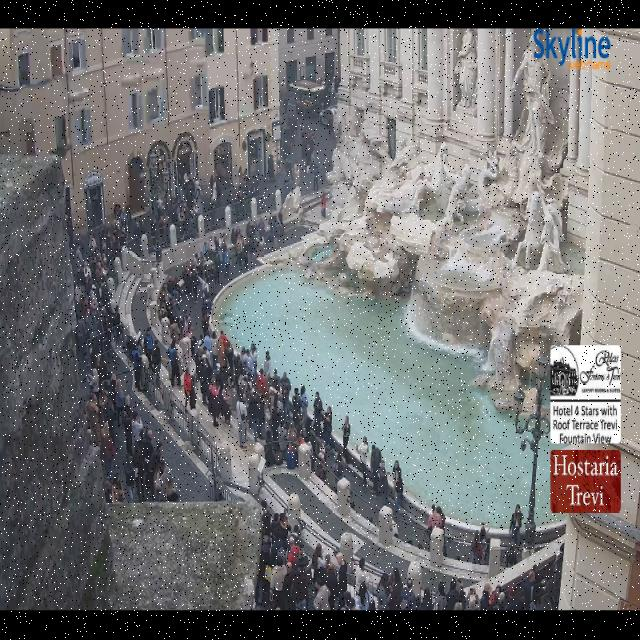person: (78, 286, 121, 384), (80, 286, 106, 384), (76, 263, 100, 367), (239, 374, 278, 438), (198, 356, 233, 426), (241, 370, 277, 433), (280, 413, 318, 469), (75, 271, 99, 351), (79, 254, 105, 320), (269, 513, 299, 566), (79, 276, 99, 352), (231, 352, 259, 404), (84, 250, 106, 315), (266, 178, 288, 242), (272, 511, 299, 561), (91, 232, 111, 298), (278, 117, 297, 184), (228, 348, 255, 395), (212, 356, 243, 396), (288, 388, 312, 439), (278, 418, 304, 465), (150, 443, 171, 501), (88, 346, 111, 398), (255, 533, 271, 605), (281, 514, 303, 565), (285, 390, 305, 443), (91, 229, 111, 281), (276, 117, 292, 182), (235, 348, 257, 395), (90, 293, 107, 352), (84, 235, 102, 290), (146, 441, 162, 501), (212, 364, 235, 405), (185, 176, 201, 234), (141, 431, 154, 501), (324, 563, 343, 610), (160, 286, 179, 332), (286, 516, 303, 567), (270, 514, 286, 568), (254, 214, 275, 254), (271, 558, 287, 610), (294, 538, 311, 585), (524, 569, 545, 607), (155, 459, 174, 501), (86, 394, 101, 447), (96, 231, 114, 275), (100, 422, 114, 478), (196, 355, 212, 404), (183, 254, 203, 293), (108, 203, 122, 256), (272, 513, 291, 552), (207, 246, 219, 303), (386, 568, 402, 610), (291, 568, 307, 610), (133, 443, 144, 502), (336, 553, 348, 607), (388, 568, 403, 610), (288, 416, 305, 451), (144, 441, 162, 473), (220, 330, 234, 371), (509, 505, 523, 546), (288, 525, 303, 563), (75, 268, 86, 319), (104, 392, 115, 442), (357, 436, 368, 486), (271, 390, 282, 440), (159, 277, 173, 316), (168, 341, 180, 386), (124, 453, 135, 502), (236, 399, 247, 448), (188, 326, 202, 364), (312, 544, 325, 584), (213, 238, 223, 290), (393, 461, 403, 513), (124, 395, 136, 438), (371, 445, 381, 496), (280, 372, 291, 418), (378, 460, 389, 506), (219, 383, 231, 425), (76, 316, 87, 360), (208, 382, 219, 426), (132, 347, 143, 391), (377, 573, 390, 610), (315, 554, 331, 584), (283, 562, 293, 610), (400, 578, 415, 610), (487, 585, 506, 610), (149, 201, 160, 244), (123, 404, 132, 456), (242, 170, 259, 197), (216, 333, 228, 371), (96, 356, 111, 385), (111, 475, 126, 504), (316, 441, 326, 483), (309, 428, 319, 470), (300, 410, 314, 440), (268, 370, 279, 408), (356, 558, 369, 590), (314, 584, 330, 610), (240, 347, 252, 381), (507, 585, 523, 610), (132, 410, 143, 446), (428, 505, 442, 533), (356, 582, 370, 610), (190, 253, 203, 283), (446, 580, 459, 610), (83, 262, 95, 294), (210, 235, 224, 262), (314, 392, 323, 434), (274, 209, 284, 246), (323, 406, 332, 447), (301, 132, 310, 173), (388, 568, 401, 596), (103, 232, 115, 262), (554, 544, 564, 580), (244, 352, 256, 382), (113, 306, 123, 342), (261, 500, 271, 536), (288, 423, 299, 455), (472, 531, 483, 563), (157, 210, 167, 245), (152, 339, 161, 377), (333, 452, 344, 483), (166, 475, 179, 501), (292, 388, 301, 425), (184, 368, 192, 409), (97, 392, 105, 433), (436, 581, 447, 610), (256, 369, 267, 398), (480, 524, 489, 559), (480, 582, 491, 610), (245, 175, 259, 197), (144, 326, 153, 360), (456, 580, 466, 610), (490, 585, 502, 610), (272, 438, 283, 465), (420, 589, 434, 610), (182, 312, 192, 341), (111, 373, 119, 409), (88, 369, 99, 395), (170, 319, 181, 345), (522, 590, 536, 610), (467, 587, 479, 610), (222, 244, 230, 277), (271, 511, 279, 544), (305, 140, 313, 173), (308, 134, 316, 166), (340, 593, 355, 610), (507, 542, 517, 567), (300, 386, 308, 417), (212, 175, 221, 202), (162, 193, 173, 215), (285, 445, 295, 469), (192, 264, 198, 303), (113, 203, 121, 232), (236, 233, 243, 266), (201, 294, 212, 315), (436, 506, 445, 531), (134, 223, 143, 248), (189, 378, 196, 409), (76, 241, 83, 272), (320, 77, 327, 108), (271, 369, 280, 393), (171, 201, 179, 227), (268, 154, 275, 182), (264, 351, 271, 378), (201, 311, 209, 334), (135, 223, 143, 245), (285, 158, 292, 183), (305, 130, 315, 147), (89, 235, 97, 256), (203, 334, 212, 352), (498, 592, 507, 610), (301, 130, 307, 156), (293, 161, 299, 187), (125, 205, 131, 227), (313, 165, 318, 191), (321, 192, 326, 218), (328, 113, 333, 138), (231, 228, 238, 244), (334, 75, 339, 95), (454, 601, 463, 610), (369, 599, 376, 610), (284, 95, 287, 115)
